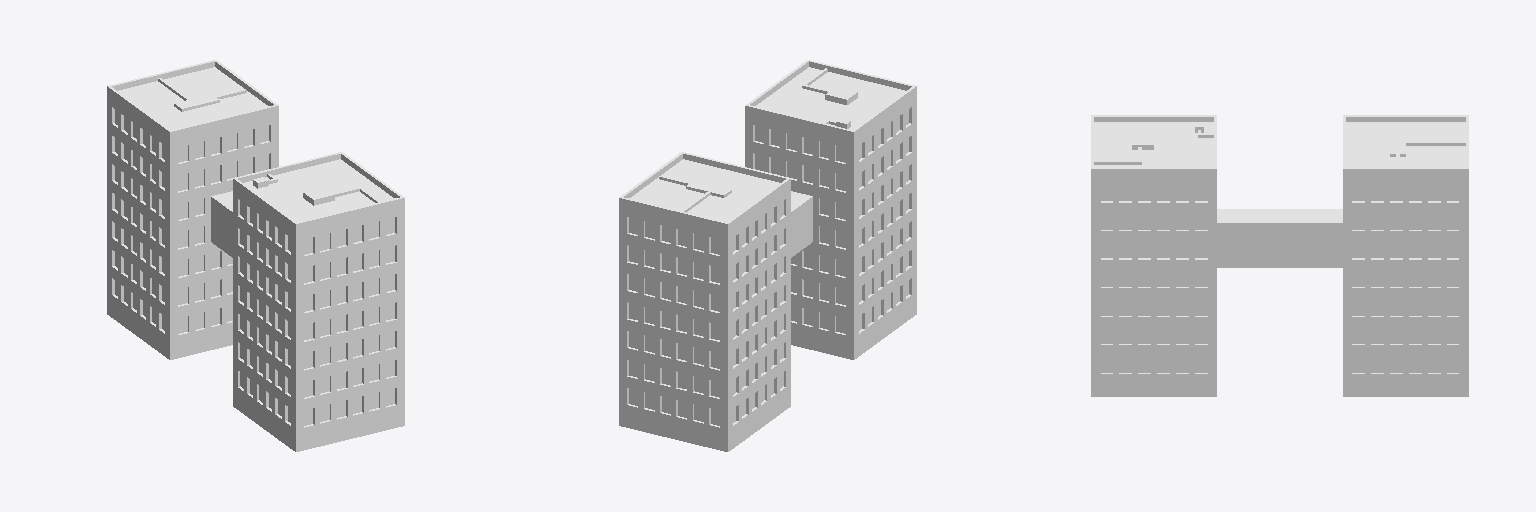
File: Asset-19.obj
3 views of the same model, side by side, from view 1: azimuth 30°, elevation 25°; view 2: azimuth 150°, elevation 25°; view 3: azimuth 270°, elevation 25° (orthographic).
Parts seen in each view (by area): view 1: Asset-19; view 2: Asset-19; view 3: Asset-19.
Boxes of the visible parts, box(x1,y1,x2,y2) form: Asset-19: box(107, 60, 404, 451); Asset-19: box(619, 60, 916, 451); Asset-19: box(1091, 115, 1468, 396).
Bounding box in the file's own units: 40 × 80 × 120.